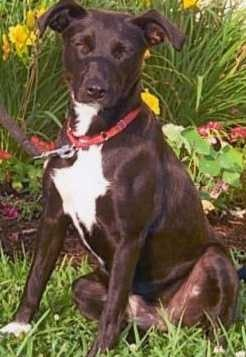dog: (16, 0, 236, 334)
